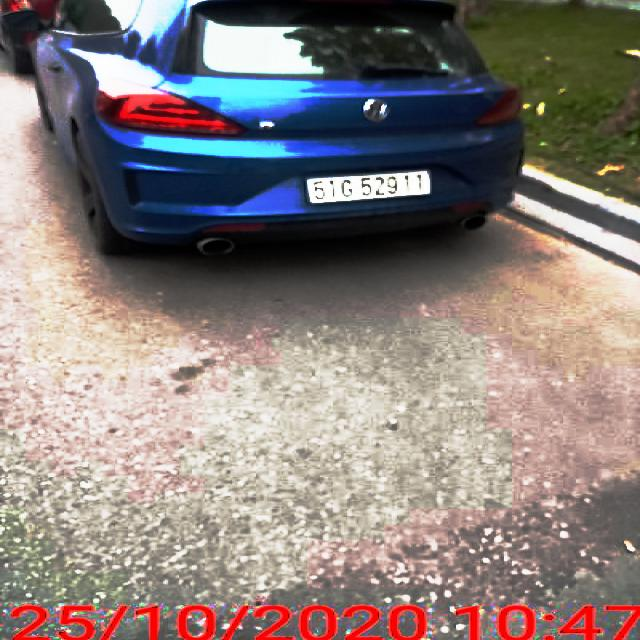license_plate: (309, 171, 432, 207)
